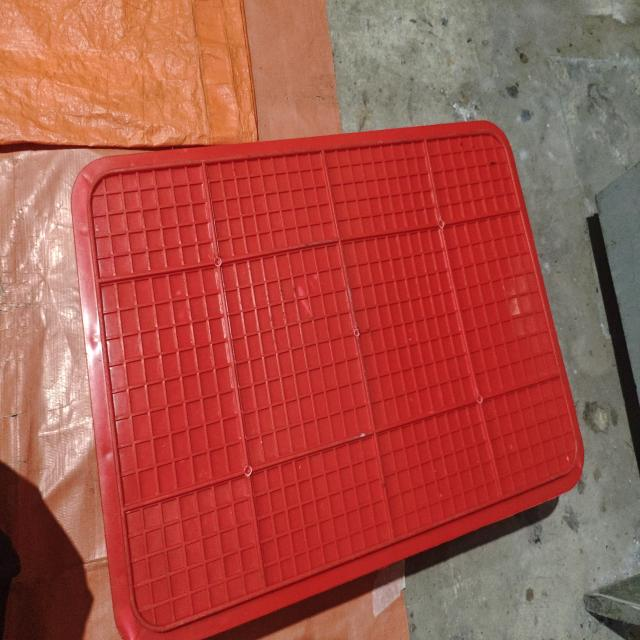red plastic box: (71, 120, 585, 640)
